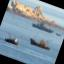fishing boat: (26, 30, 56, 55), (3, 30, 22, 48)
